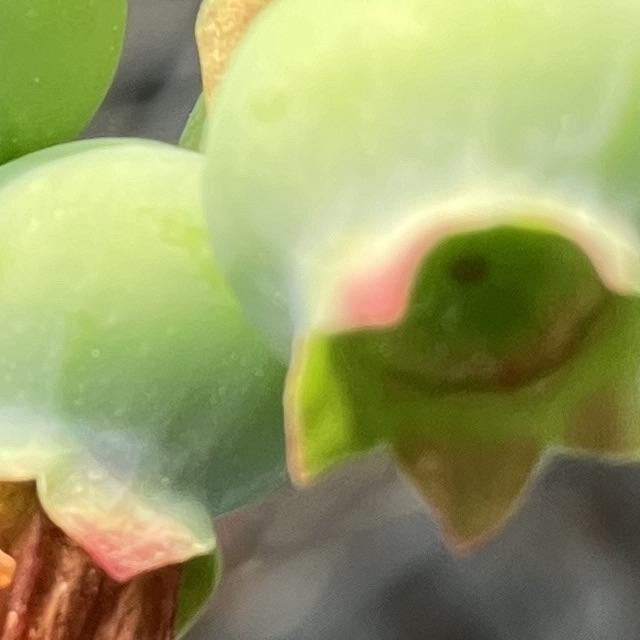Blueberries: (195, 0, 640, 552)
